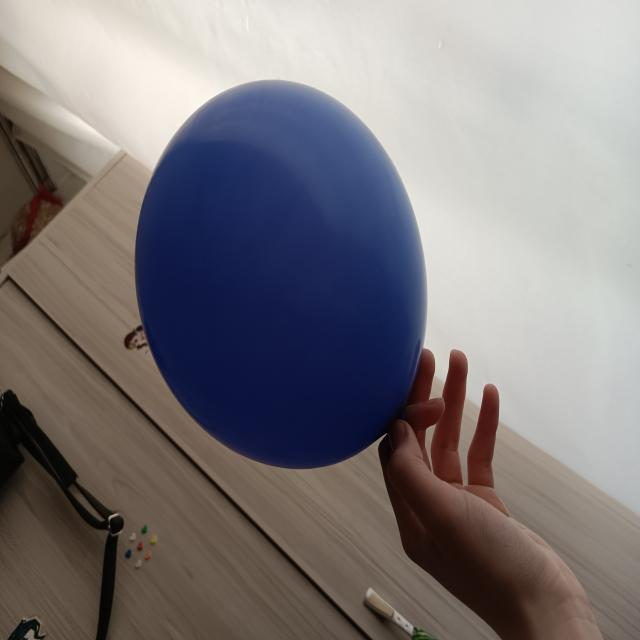blue: (135, 77, 429, 472)
